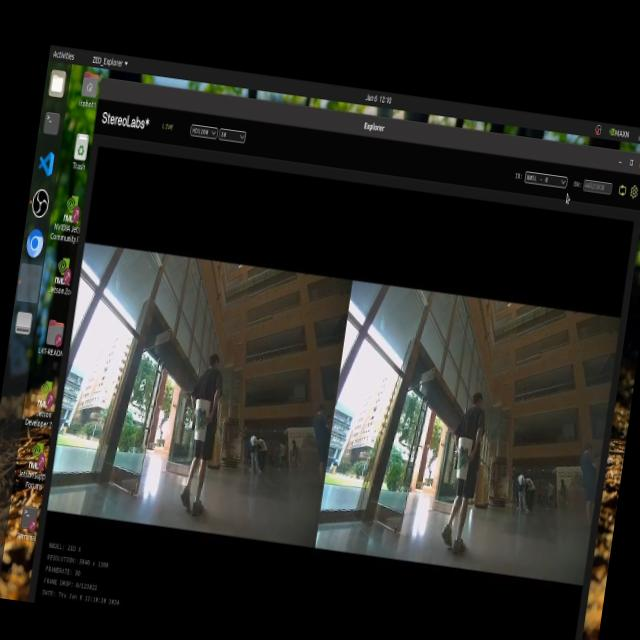green: (192, 394, 214, 435), (458, 445, 470, 475)
